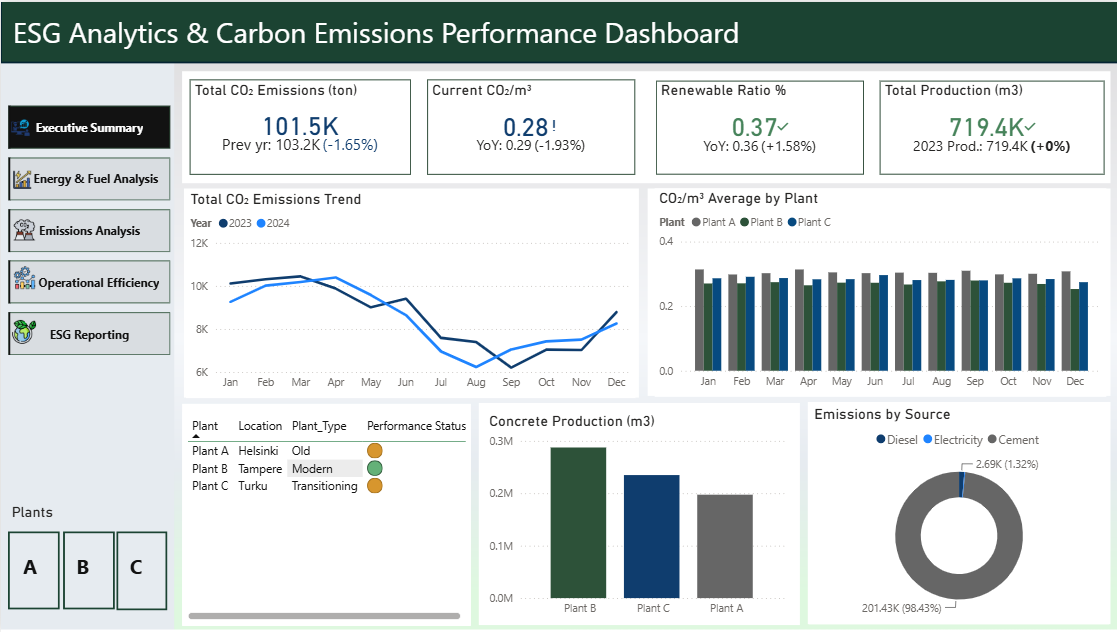

What the dashboard file says about the page in this screenshot:
{"tool":"powerbi","page":{"name":"Executive Summary","canvas":[1280,720],"ordinal":0},"visuals":[{"type":"kpi","title":"Total CO₂ Emissions (ton)","fields":{"Indicator":["Dax.2024 CO2 Emissions"],"TrendLine":["emissions3.Date"],"Goal":["Dax.2023 CO2 Emissions"]},"box":[215.4,89.2,252.5,108.4],"z":0},{"type":"image","box":[11,193.4,26.1,20.6],"z":0,"group":"g1"},{"type":"kpi","title":"Total Production (m3)","fields":{"Indicator":["Dax.Total Production 2024 (m3)"],"TrendLine":["production5.Month"],"Goal":["Dax.Total Production 2023 (m3)"]},"box":[1004.5,90.6,256.6,107],"z":1000},{"type":"image","box":[13.7,240.1,24.7,41.2],"z":1000,"group":"g1"},{"type":"kpi","title":"Renewable Ratio %","fields":{"Indicator":["Dax.RR % 2024"],"TrendLine":["energy4.Month"],"Goal":["Dax.RR % 2023"]},"box":[747.9,90.6,237.4,107],"z":2000},{"type":"image","box":[12.4,297.7,27.4,35.7],"z":2000,"group":"g1"},{"type":"kpi","title":"Current CO₂/m³","fields":{"Indicator":["Dax.CO2 per m3 2024"],"TrendLine":["production5.Month"],"Goal":["Dax.CO2 per m3 2023"]},"box":[487.1,89.2,237.4,108.4],"z":3000},{"type":"image","box":[12.4,359.5,27.4,37],"z":3000,"group":"g1"},{"type":"image","box":[11,126.2,22,35.7],"z":4000,"group":"g1"},{"type":"clusteredColumnChart","title":"CO₂/m³ Average by Plant","fields":{"Category":["DateTable.Month Name"],"Series":["emissions3.Plant"],"Y":["Dax.Avg CO₂/m³"]},"box":[746.5,212.7,516,238.8],"z":4000},{"type":"tableEx","fields":{"Values":["plants1.Plant","plants1.Location","plants1.Plant_Type","Dax.Plant Performance Status"]},"box":[207.2,467.9,329.3,242.9],"z":5000},{"type":"lineChart","title":"Total CO₂ Emissions Trend","fields":{"Y":["Dax.Total CO2"],"Series":["DateTable.Year"],"Category":["DateTable.Month Name"]},"box":[211.3,214.1,513.2,238.8],"z":6000},{"type":"columnChart","title":"Concrete Production (m3)","fields":{"Y":["Sum(production5.Concrete_Production_m3)"],"Category":["production5.Plant"]},"box":[553,467.9,348.5,242.9],"z":7000},{"type":"donutChart","title":"Emissions by Source","fields":{"Y":["Sum(emissions3.Diesel_CO2_tons)","Sum(emissions3.Electricity_CO2_tons)","Sum(emissions3.Cement_CO2_tons)"]},"box":[924.9,459.7,341.7,251.1],"z":8000},{"type":"advancedSlicerVisual","title":"Plants","fields":{"Values":["plants1.Plant Letter"]},"box":[6.9,572.2,186.6,123.5],"z":9000},{"type":"textbox","box":[8.2,6.9,860.4,65.9],"z":10000},{"type":"pageNavigator","title":"Page","box":[8.2,118,185.2,286.8],"z":11000},{"type":"group","id":"g1","title":"Group 1","box":[11,126.2,28.8,270.3],"z":12000}]}

Visuals, with their boxes in screenshot pixels (x1, y1, x2, y2), scaled from the page's 1280x720 canvas onto the 1117x632 screenshot:
"Total CO₂ Emissions (ton)" kpi: crop(188, 78, 408, 173)
image: crop(10, 170, 32, 188)
"Total Production (m3)" kpi: crop(877, 80, 1101, 173)
image: crop(12, 211, 34, 247)
"Renewable Ratio %" kpi: crop(653, 80, 860, 173)
image: crop(11, 261, 35, 293)
"Current CO₂/m³" kpi: crop(425, 78, 632, 173)
image: crop(11, 316, 35, 348)
image: crop(10, 111, 29, 142)
"CO₂/m³ Average by Plant" clusteredColumnChart: crop(651, 187, 1102, 396)
tableEx - plants1.Plant x plants1.Location: crop(181, 411, 468, 624)
"Total CO₂ Emissions Trend" lineChart: crop(184, 188, 632, 398)
"Concrete Production (m3)" columnChart: crop(483, 411, 787, 624)
"Emissions by Source" donutChart: crop(807, 404, 1105, 624)
"Plants" advancedSlicerVisual: crop(6, 502, 169, 611)
textbox: crop(7, 6, 758, 64)
"Page" pageNavigator: crop(7, 104, 169, 355)
"Group 1" group: crop(10, 111, 35, 348)
